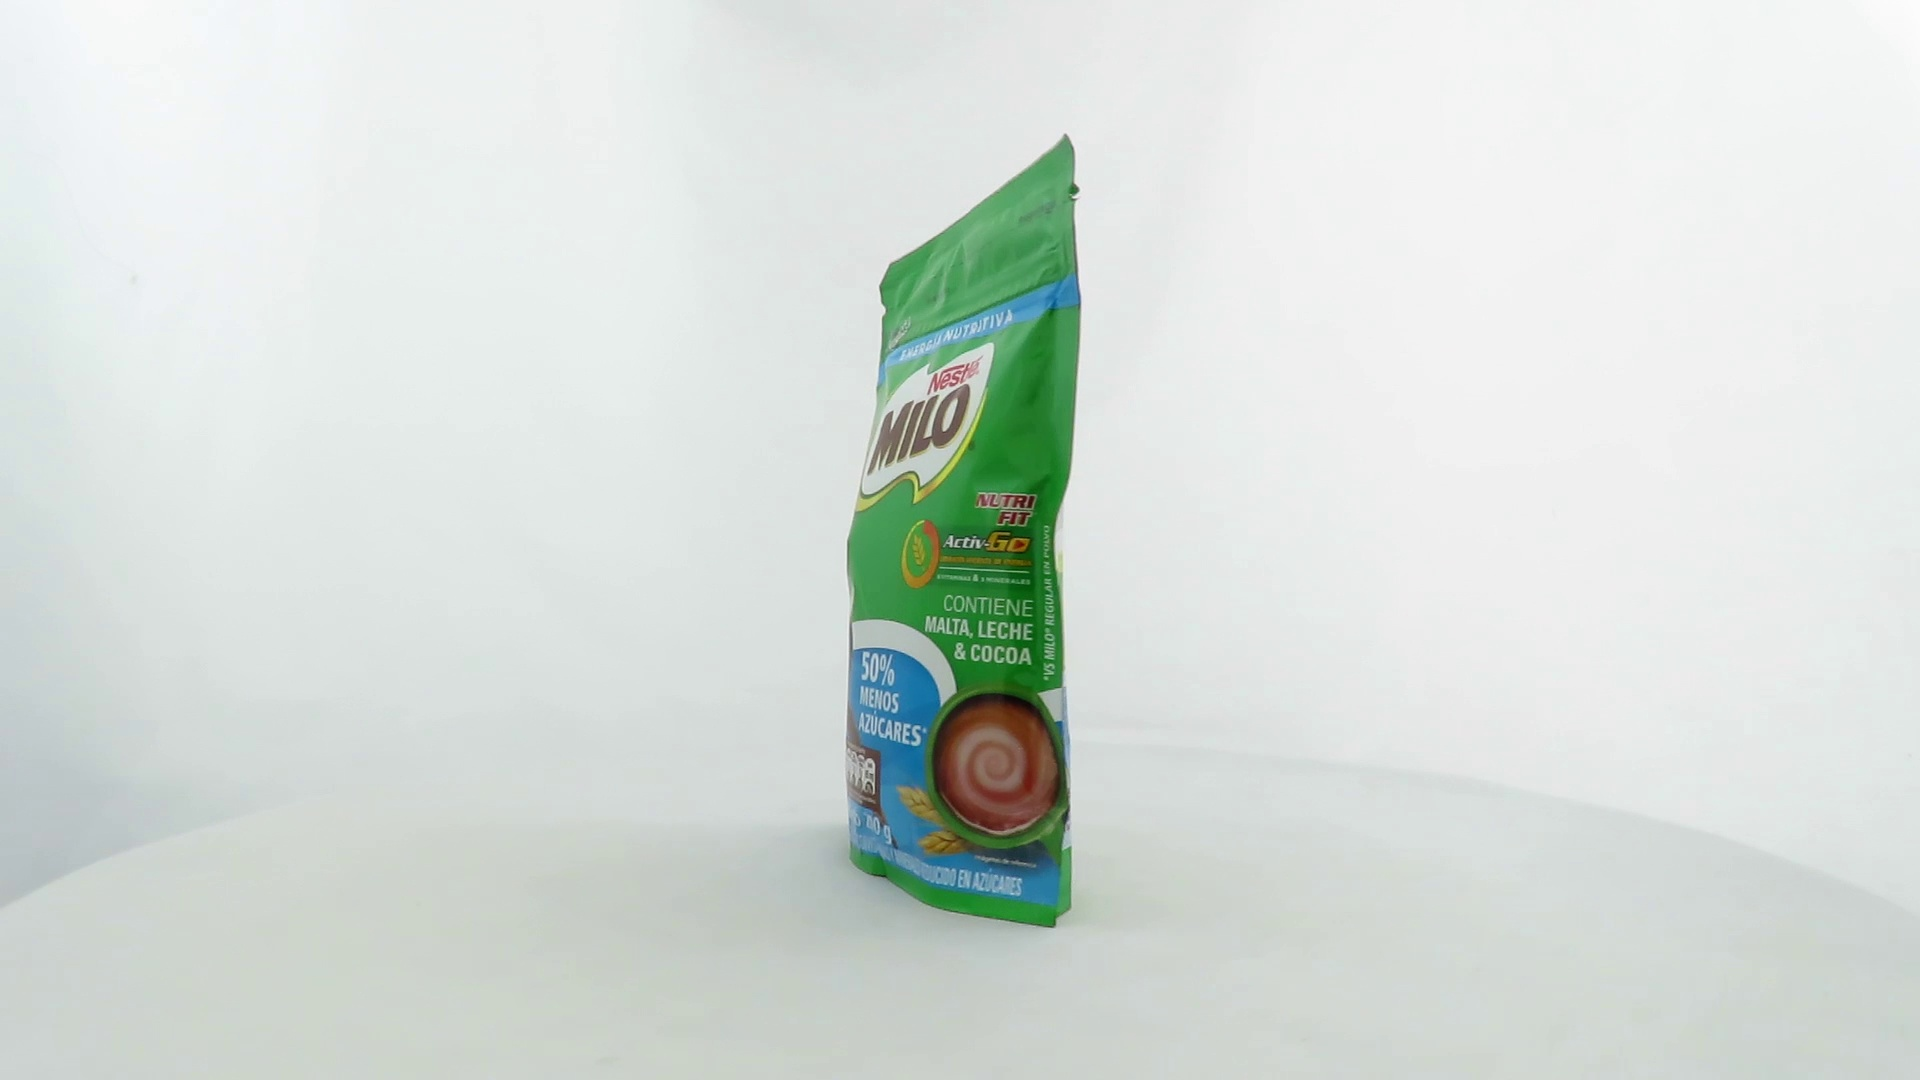COL0170205DYP20000: (840, 128, 1087, 934)
